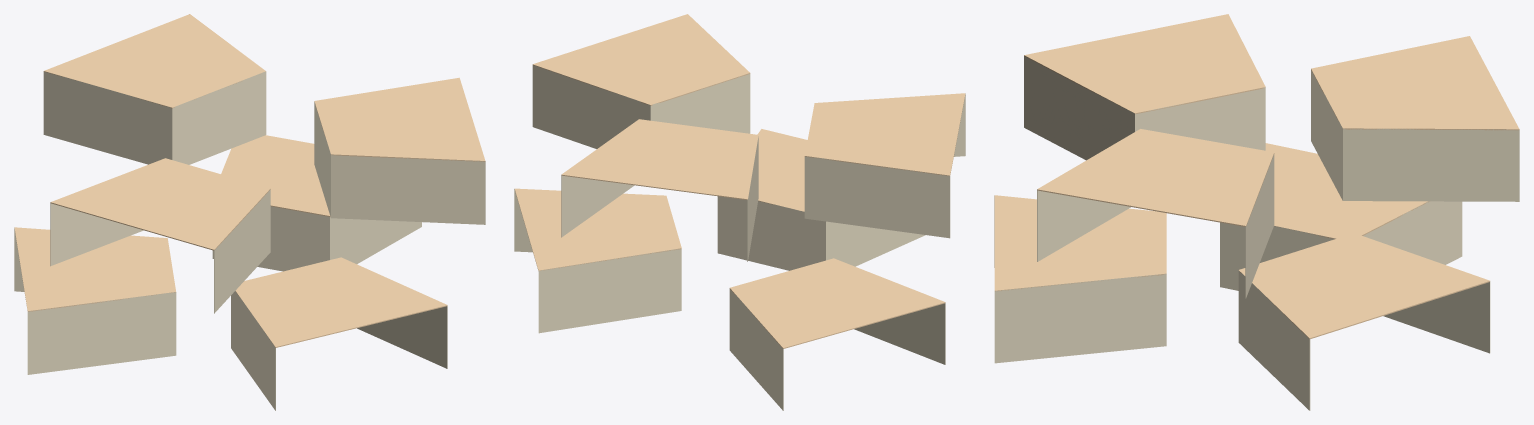
File: ceiling.glb
3 renders of one model, left to right at view 1: azimuth 30°, elevation 25°; view 2: azimuth 150°, elevation 25°; view 3: azimuth 270°, elevation 25°, orthographic. The views are drawn at different scales.
Parts seen in each view (by area): view 1: ceiling; view 2: ceiling; view 3: ceiling.
Boxes of the visible parts, bbox=[...] form: ceiling: bbox=[14, 14, 485, 410]; ceiling: bbox=[514, 14, 965, 410]; ceiling: bbox=[994, 14, 1519, 410].
Size of the model in its own units: 9.22 by 4.34 by 8.65.
